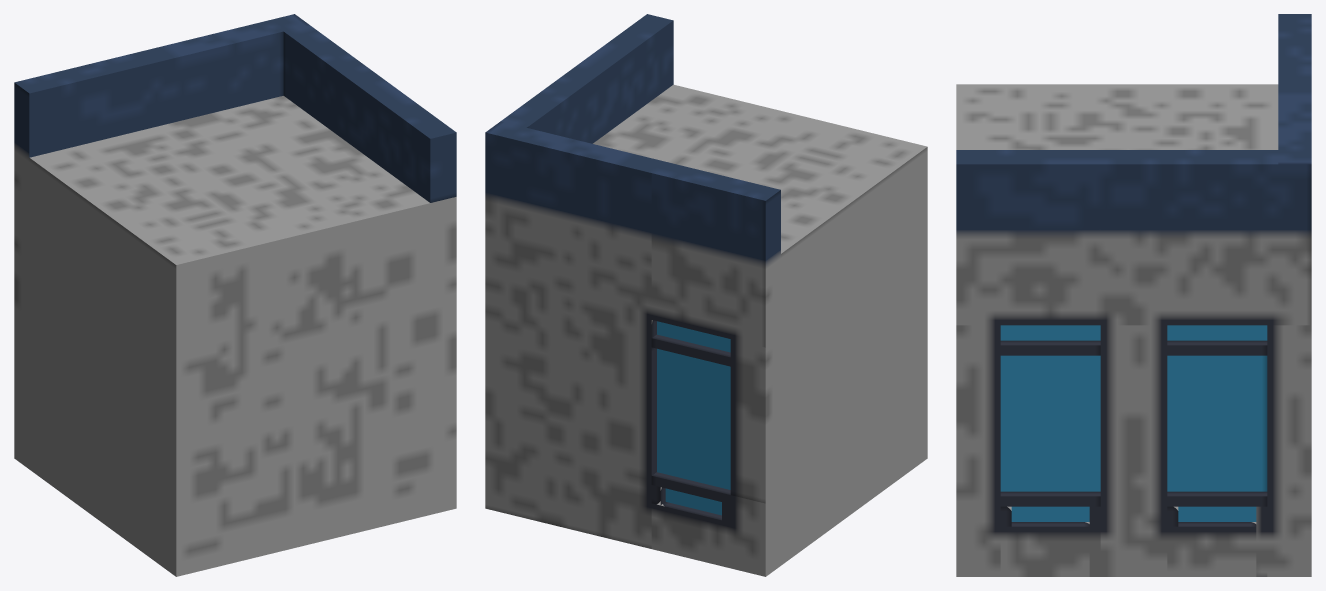
File: OKNA_BOK_PRZBUDYNEK_MAŁY.dae
3 views of the same model, side by side, from view 1: azimuth 30°, elevation 25°; view 2: azimuth 150°, elevation 25°; view 3: azimuth 270°, elevation 25° (orthographic). The views are drawn at different scales.
Visible parts, largest first — view 1: Content; view 2: Content; view 3: Content.
Boxes of the visible parts, bbox=[...] form: Content: bbox=[14, 14, 456, 576]; Content: bbox=[485, 14, 927, 576]; Content: bbox=[956, 14, 1311, 576].
Size of the model in its own units: 32 by 41 by 32.
Materials: 1 (1 with a texture image).
